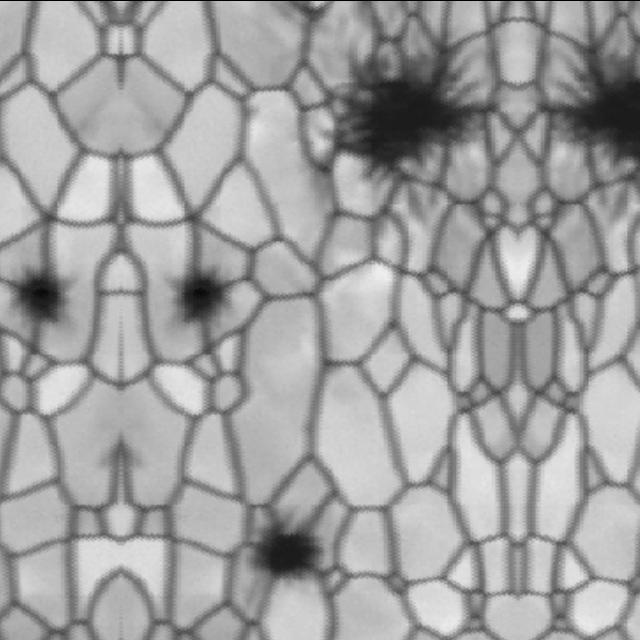good_void: (529, 34, 640, 207), (234, 501, 332, 604), (152, 248, 254, 340), (0, 248, 91, 340)
